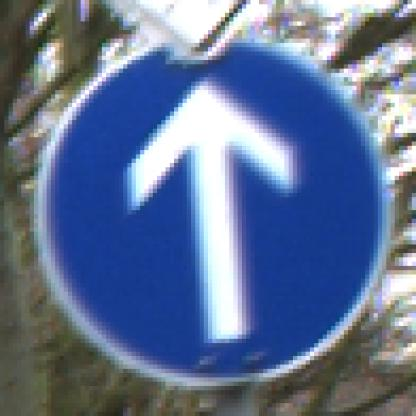AheadOnly: (39, 35, 383, 383)
